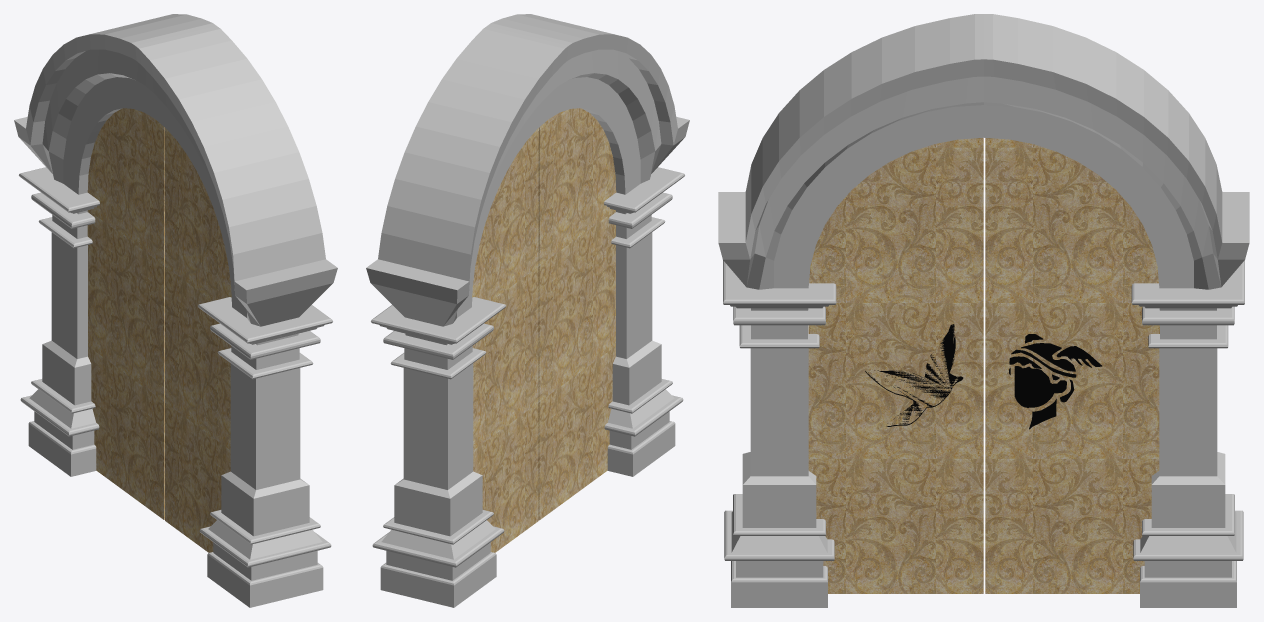
Rendered from gate.fbx.
3 views of the same model, side by side, from view 1: azimuth 30°, elevation 25°; view 2: azimuth 150°, elevation 25°; view 3: azimuth 270°, elevation 25° (orthographic). The views are drawn at different scales.
Visible parts, largest first — view 1: kemer, sol_kapi; view 2: kemer, sol_kapi; view 3: sol_kapi, kemer.
Boxes of the visible parts, bbox=[...] form: kemer: bbox=[14, 14, 337, 607]; sol_kapi: bbox=[87, 108, 231, 552]; kemer: bbox=[366, 14, 689, 607]; sol_kapi: bbox=[472, 108, 616, 552]; sol_kapi: bbox=[808, 138, 1159, 593]; kemer: bbox=[718, 14, 1249, 607].
Size of the model in its own units: 82.92 by 418 by 365.
